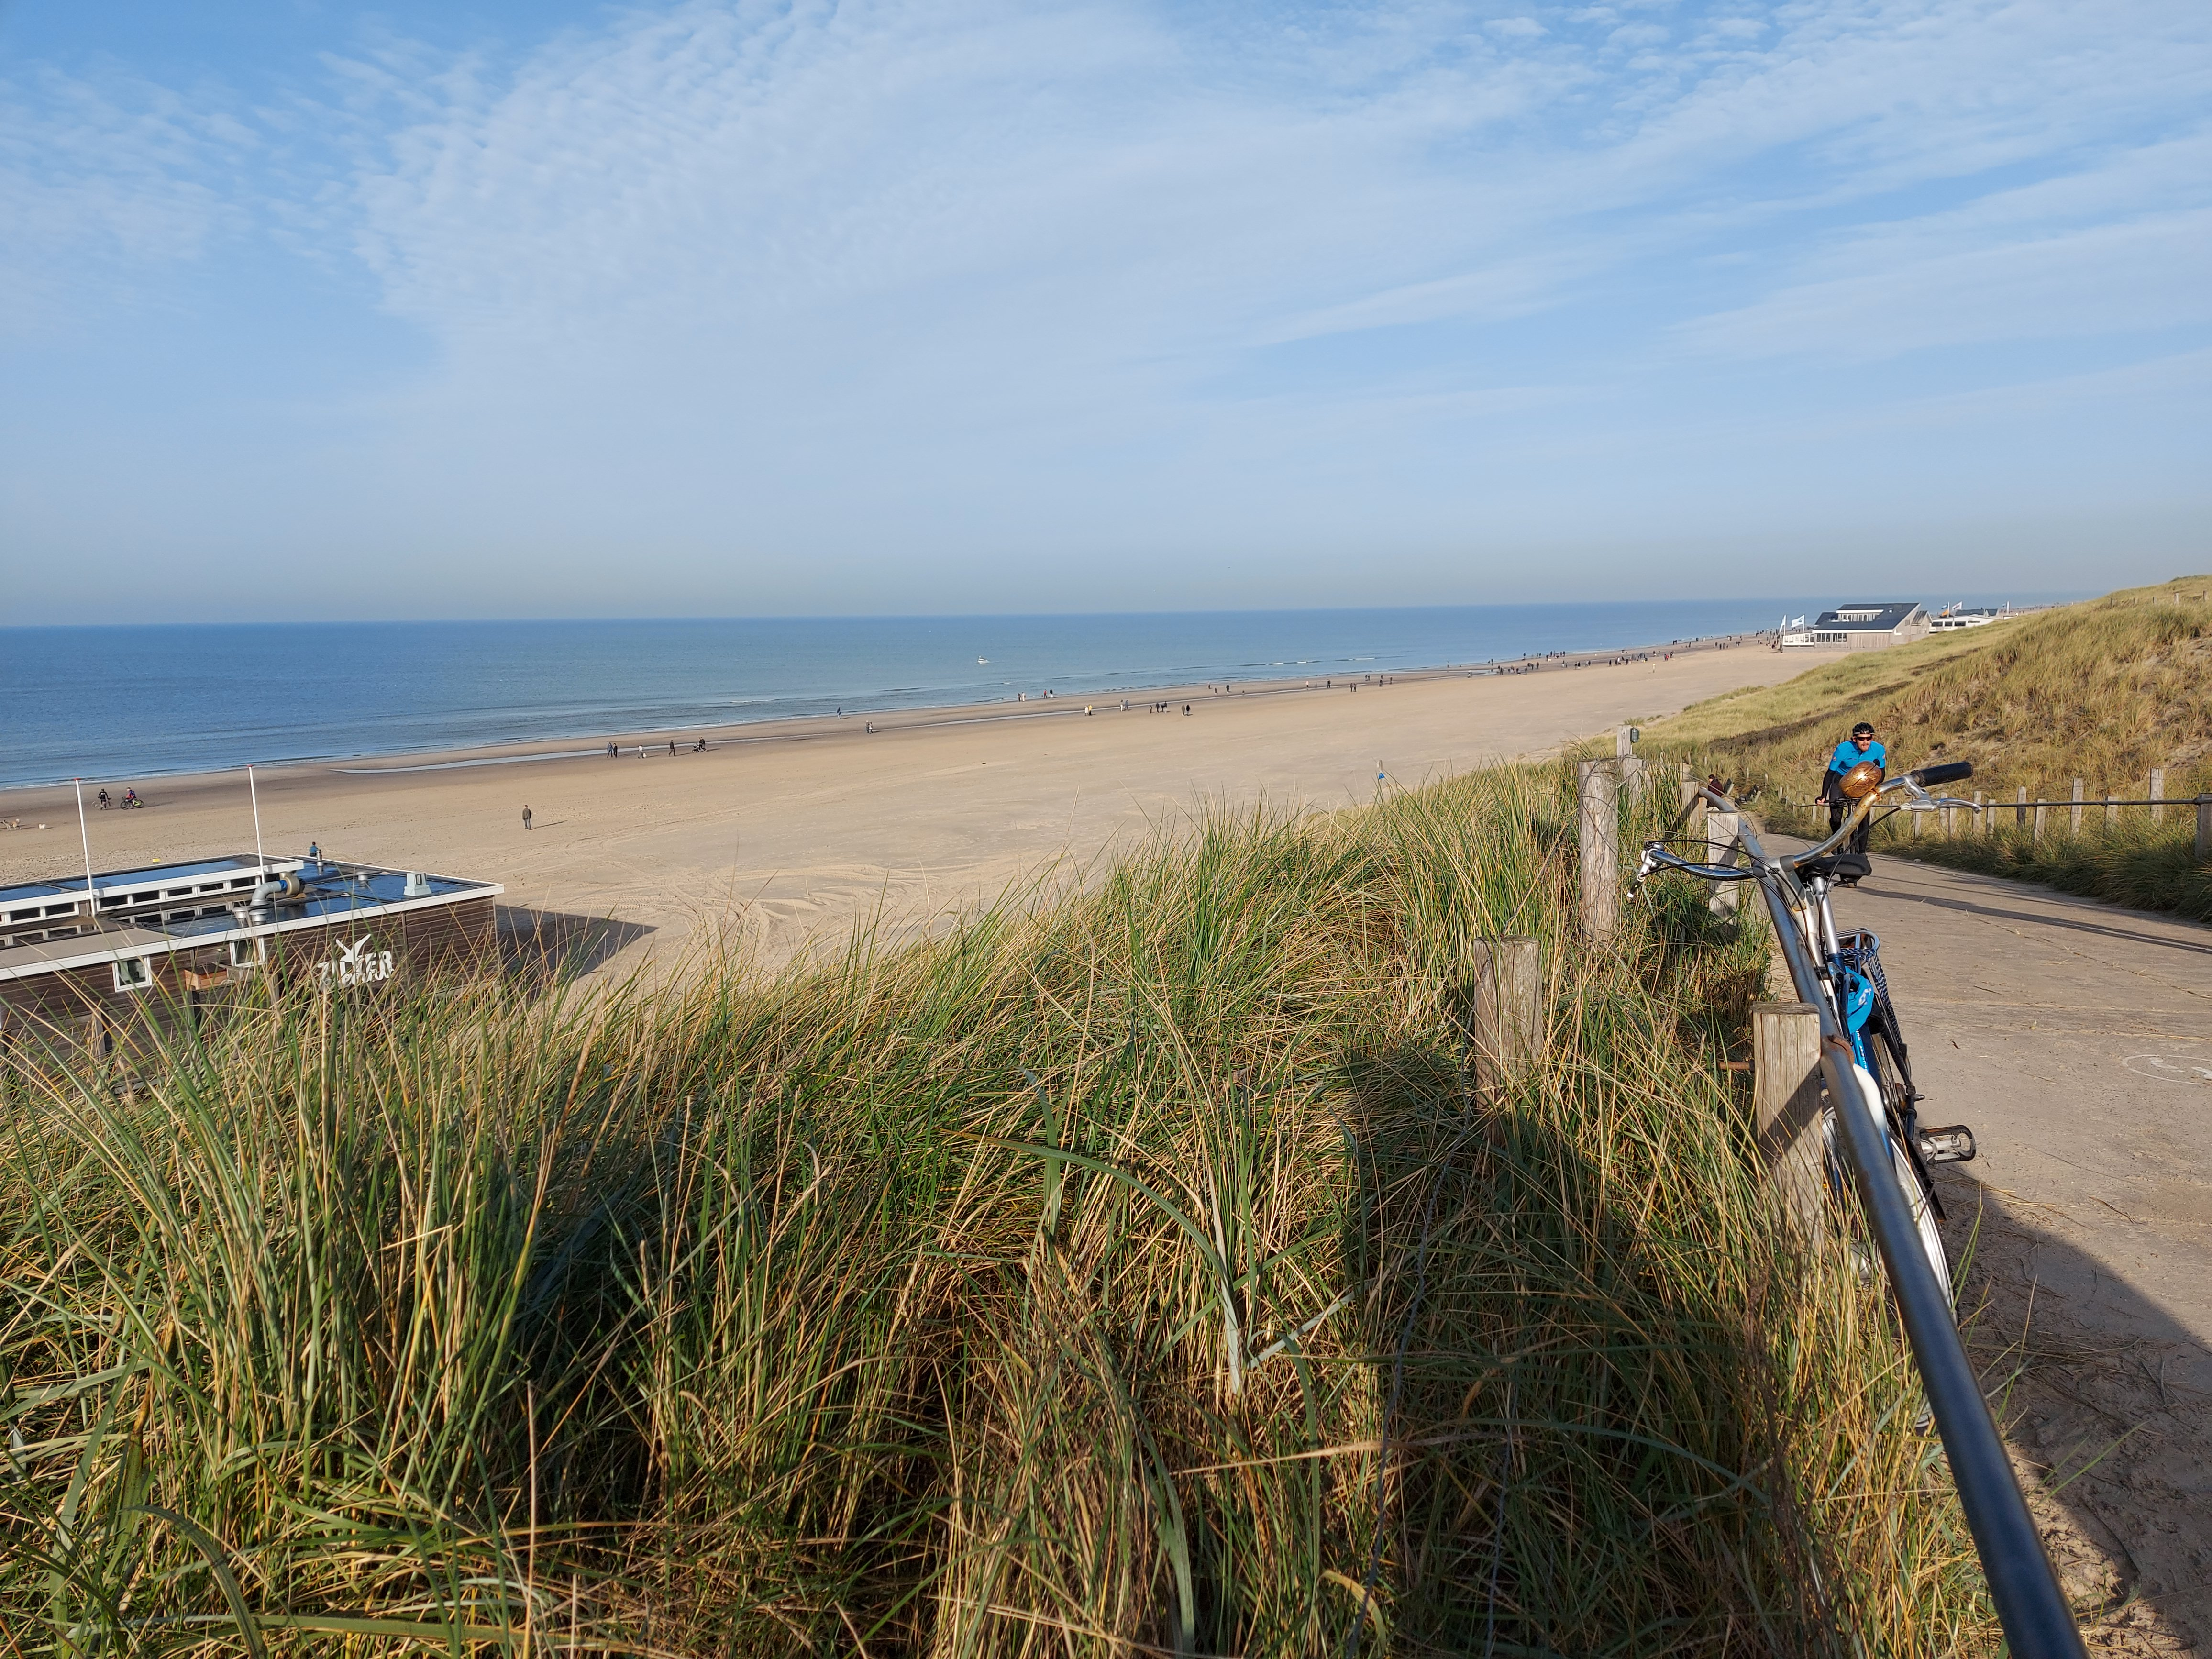zilvermeeuw: (2, 852, 545, 1089)
